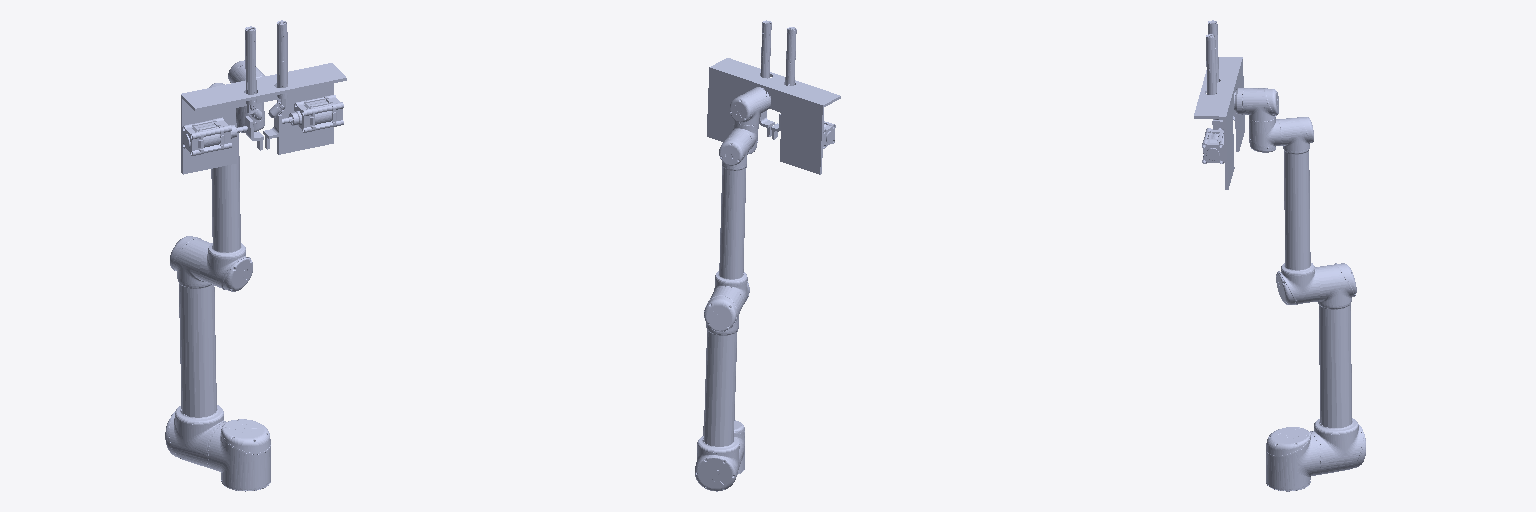
The robot description file, URDF, robot "finalassem":
<?xml version="1.0" encoding="utf-8" ?>
<!-- This URDF was automatically created by SolidWorks to URDF Exporter! Originally created by [author] ([email redacted]) 
     Commit Version: 1.6.0-4-g7f85cfe  Build Version: 1.6.7995.38578
     For more information, please see http://wiki.ros.org/sw_urdf_exporter -->
<robot name="finalassem">
    <link name="world" />
    <joint name="base_joint" type="fixed">
        <parent link="world" />
        <child link="base_link" />
        <origin rpy="0 0 0" xyz="0.0 0.0 0.0" />
    </joint>
    <link name="base_link">
        <inertial>
            <origin xyz="-0.0603419557207644 -1.50773058291787 0.821836226358468" rpy="0 0 0" />
            <mass value="142.882608819031" />
            <inertia ixx="10.8712200878076" ixy="0.535285446515449" ixz="0.000457817673471661" iyy="8.41409381527662" iyz="0.0144235053946301" izz="16.3298673878799" />
        </inertial>
        <visual>
            <origin xyz="0 0 0" rpy="0 0 0" />
            <geometry>
                <mesh filename="package://finalassem/meshes/base_link.STL" />
            </geometry>
            <material name="">
                <color rgba="0.792156862745098 0.819607843137255 0.933333333333333 1" />
            </material>
        </visual>
        <collision>
            <origin xyz="0 0 0" rpy="0 0 0" />
            <geometry>
                <mesh filename="package://finalassem/meshes/base_link.STL" />
            </geometry>
        </collision>
    </link>
    <link name="link_1">
        <inertial>
            <origin xyz="4.77127178797471E-06 0.0784763184510359 -0.0116151707889601" rpy="0 0 0" />
            <mass value="3.07355204108882" />
            <inertia ixx="0.0114771461524677" ixy="-9.89074980772093E-07" ixz="2.0481809447255E-07" iyy="0.010119747924353" iyz="0.000858548536440192" izz="0.0107166314018568" />
        </inertial>
        <visual>
            <origin xyz="0 0 0" rpy="0 0 0" />
            <geometry>
                <mesh filename="package://finalassem/meshes/link_1.STL" />
            </geometry>
            <material name="">
                <color rgba="0.792156862745098 0.819607843137255 0.933333333333333 1" />
            </material>
        </visual>
        <collision>
            <origin xyz="0 0 0" rpy="0 0 0" />
            <geometry>
                <mesh filename="package://finalassem/meshes/link_1.STL" />
            </geometry>
        </collision>
    </link>
    <joint name="joint_1" type="continuous">
        <origin xyz="0.00240745158135776 -0.104353839104099 0.15597596146156" rpy="1.5707963267949 0 0.397601106482726" />
        <parent link="base_link" />
        <child link="link_1" />
        <axis xyz="0 1 0" />
    </joint>
    <link name="link_2">
        <inertial>
            <origin xyz="-8.65631177508763E-06 0.0116145591653397 -0.138860145082013" rpy="0 0 0" />
            <mass value="3.07348047660414" />
            <inertia ixx="0.0114769295305807" ixy="7.31547530408359E-07" ixz="-7.71435860268772E-07" iyy="0.0107157342982714" iyz="0.000858669597321725" izz="0.0101190242871439" />
        </inertial>
        <visual>
            <origin xyz="0 0 0" rpy="0 0 0" />
            <geometry>
                <mesh filename="package://finalassem/meshes/link_2.STL" />
            </geometry>
            <material name="">
                <color rgba="0.792156862745098 0.819607843137255 0.933333333333333 1" />
            </material>
        </visual>
        <collision>
            <origin xyz="0 0 0" rpy="0 0 0" />
            <geometry>
                <mesh filename="package://finalassem/meshes/link_2.STL" />
            </geometry>
        </collision>
    </link>
    <joint name="joint_2" type="continuous">
        <origin xyz="0 0.0899999999999889 -0.0256155819164052" rpy="0 0 0.0307878661568272" />
        <parent link="link_1" />
        <child link="link_2" />
        <axis xyz="0 0 1" />
    </joint>
    <link name="link_3">
        <inertial>
            <origin xyz="-0.0013474856353204 0.29655345897388 0.00206792628843752" rpy="0 0 0" />
            <mass value="5.63896475563932" />
            <inertia ixx="0.0849775986807389" ixy="0.000146256734328598" ixz="0.000113417635250669" iyy="0.00920146977412278" iyz="-0.000226344276129794" izz="0.0848691111632557" />
        </inertial>
        <visual>
            <origin xyz="0 0 0" rpy="0 0 0" />
            <geometry>
                <mesh filename="package://finalassem/meshes/link_3.STL" />
            </geometry>
            <material name="">
                <color rgba="0.792156862745098 0.819607843137255 0.933333333333333 1" />
            </material>
        </visual>
        <collision>
            <origin xyz="0 0 0" rpy="0 0 0" />
            <geometry>
                <mesh filename="package://finalassem/meshes/link_3.STL" />
            </geometry>
        </collision>
    </link>
    <joint name="joint_3" type="continuous">
        <origin xyz="0 0.0849908562998217 -0.150384418083583" rpy="0 0.484546533228913 0" />
        <parent link="link_2" />
        <child link="link_3" />
        <axis xyz="0 1 0" />
    </joint>
    <link name="link_4">
        <inertial>
            <origin xyz="-9.96691760318802E-07 0.199930062003044 0.103893893019653" rpy="0 0 0" />
            <mass value="3.92494509067358" />
            <inertia ixx="0.0505976310623649" ixy="9.14310736021171E-07" ixz="3.55839284637942E-07" iyy="0.00492433782622353" iyz="-0.000221197443287801" izz="0.050539802474539" />
        </inertial>
        <visual>
            <origin xyz="0 0 0" rpy="0 0 0" />
            <geometry>
                <mesh filename="package://finalassem/meshes/link_4.STL" />
            </geometry>
            <material name="">
                <color rgba="0.792156862745098 0.819607843137255 0.933333333333333 1" />
            </material>
        </visual>
        <collision>
            <origin xyz="0 0 0" rpy="0 0 0" />
            <geometry>
                <mesh filename="package://finalassem/meshes/link_4.STL" />
            </geometry>
        </collision>
    </link>
    <joint name="joint_4" type="continuous">
        <origin xyz="-0.0118911304647787 0.527909143700178 0.0183817072517072" rpy="0.00309379475843327 -0.574185627833264 -0.00569596678779681" />
        <parent link="link_3" />
        <child link="link_4" />
        <axis xyz="0 0 1" />
    </joint>
    <link name="link_5">
        <inertial>
            <origin xyz="-5.39835825404122E-06 0.138062304139644 -0.00973804553946607" rpy="0 0 0" />
            <mass value="0.728489420155602" />
            <inertia ixx="0.00111505511483772" ixy="-2.2085432932022E-08" ixz="7.18321259874662E-08" iyy="0.00103091880968341" iyz="9.07975601526633E-05" izz="0.000883739881409994" />
        </inertial>
        <visual>
            <origin xyz="0 0 0" rpy="0 0 0" />
            <geometry>
                <mesh filename="package://finalassem/meshes/link_5.STL" />
            </geometry>
            <material name="">
                <color rgba="0.792156862745098 0.819607843137255 0.933333333333333 1" />
            </material>
        </visual>
        <collision>
            <origin xyz="0 0 0" rpy="0 0 0" />
            <geometry>
                <mesh filename="package://finalassem/meshes/link_5.STL" />
            </geometry>
        </collision>
    </link>
    <joint name="joint_5" type="continuous">
        <origin xyz="0 0.425934706109944 0.105916684653403" rpy="3.14159265358979 0.105419265942033 -3.14159265358979" />
        <parent link="link_4" />
        <child link="link_5" />
        <axis xyz="0 1 0" />
    </joint>
    <link name="link_6">
        <inertial>
            <origin xyz="2.64420075834354E-06 0.0097373554168092 -0.108097210619425" rpy="0 0 0" />
            <mass value="0.728502825635752" />
            <inertia ixx="0.00111504506807076" ixy="7.4786557307168E-08" ixz="-3.14867766803927E-08" iyy="0.000883753251501161" iyz="9.07976008466227E-05" izz="0.00103094195285295" />
        </inertial>
        <visual>
            <origin xyz="0 0 0" rpy="0 0 0" />
            <geometry>
                <mesh filename="package://finalassem/meshes/link_6.STL" />
            </geometry>
            <material name="">
                <color rgba="0.792156862745098 0.819607843137255 0.933333333333333 1" />
            </material>
        </visual>
        <collision>
            <origin xyz="0 0 0" rpy="0 0 0" />
            <geometry>
                <mesh filename="package://finalassem/meshes/link_6.STL" />
            </geometry>
        </collision>
    </link>
    <joint name="joint_6" type="continuous">
        <origin xyz="0 0.145665293890056 0" rpy="0 0 -0.0544254616509298" />
        <parent link="link_5" />
        <child link="link_6" />
        <axis xyz="0 0 1" />
    </joint>
    <link name="link_7">
        <inertial>
            <origin xyz="-3.57005926357457E-06 0.108096387755275 -0.00973741560067112" rpy="0 0 0" />
            <mass value="0.72850243818008" />
            <inertia ixx="0.00111505826448669" ixy="-3.33168592003055E-08" ixz="7.77483096066822E-08" iyy="0.00103092645898969" iyz="9.07971030654968E-05" izz="0.000883751182011464" />
        </inertial>
        <visual>
            <origin xyz="0 0 0" rpy="0 0 0" />
            <geometry>
                <mesh filename="package://finalassem/meshes/link_7.STL" />
            </geometry>
            <material name="">
                <color rgba="0.792156862745098 0.819607843137255 0.933333333333333 1" />
            </material>
        </visual>
        <collision>
            <origin xyz="0 0 0" rpy="0 0 0" />
            <geometry>
                <mesh filename="package://finalassem/meshes/link_7.STL" />
            </geometry>
        </collision>
    </link>
    <joint name="joint_7" type="continuous">
        <origin xyz="0 0 -0.115700000000001" rpy="0 -0.315525709253304 0" />
        <parent link="link_6" />
        <child link="link_7" />
        <axis xyz="0 1 0" />
    </joint>
    <link name="link_8">
        <inertial>
            <origin xyz="-0.0315513204285673 0.0260145697494081 -0.0340332644469926" rpy="0 0 0" />
            <mass value="3.07827959030171" />
            <inertia ixx="0.0245029423900137" ixy="-0.0120788803001195" ixz="0.00129006559738632" iyy="0.0310317103819994" iyz="-0.00170789460065063" izz="0.0518371197894893" />
        </inertial>
        <visual>
            <origin xyz="0 0 0" rpy="0 0 0" />
            <geometry>
                <mesh filename="package://finalassem/meshes/link_8.STL" />
            </geometry>
            <material name="">
                <color rgba="0.792156862745098 0.819607843137255 0.933333333333333 1" />
            </material>
        </visual>
        <collision>
            <origin xyz="0 0 0" rpy="0 0 0" />
            <geometry>
                <mesh filename="package://finalassem/meshes/link_8.STL" />
            </geometry>
        </collision>
    </link>
    <joint name="joint_8" type="continuous">
        <origin xyz="0 0.1157 -0.0912407987352135" rpy="0 0 2.5427792381943" />
        <parent link="link_7" />
        <child link="link_8" />
        <axis xyz="0 0 1" />
    </joint>
    <transmission name="link_1_trans">
        <type>transmission_interface/SimpleTransmission</type>
        <joint name="joint_1">
            <hardwareInterface>hardware_interface/PositionJointInterface</hardwareInterface>
        </joint>
        <actuator name="link_1_motor">
            <hardwareInterface>hardware_interface/PositionJointInterface</hardwareInterface>
            <mechanicalReduction>1</mechanicalReduction>
        </actuator>
    </transmission>
    <transmission name="link_2_trans">
        <type>transmission_interface/SimpleTransmission</type>
        <joint name="joint_2">
            <hardwareInterface>hardware_interface/PositionJointInterface</hardwareInterface>
        </joint>
        <actuator name="link_2_motor">
            <hardwareInterface>hardware_interface/PositionJointInterface</hardwareInterface>
            <mechanicalReduction>1</mechanicalReduction>
        </actuator>
    </transmission>
    <transmission name="link_3_trans">
        <type>transmission_interface/SimpleTransmission</type>
        <joint name="joint_3">
            <hardwareInterface>hardware_interface/PositionJointInterface</hardwareInterface>
        </joint>
        <actuator name="link_3_motor">
            <hardwareInterface>hardware_interface/PositionJointInterface</hardwareInterface>
            <mechanicalReduction>1</mechanicalReduction>
        </actuator>
    </transmission>
    <transmission name="link_4_trans">
        <type>transmission_interface/SimpleTransmission</type>
        <joint name="joint_4">
            <hardwareInterface>hardware_interface/PositionJointInterface</hardwareInterface>
        </joint>
        <actuator name="link_4_motor">
            <hardwareInterface>hardware_interface/PositionJointInterface</hardwareInterface>
            <mechanicalReduction>1</mechanicalReduction>
        </actuator>
    </transmission>
    <transmission name="link_5_trans">
        <type>transmission_interface/SimpleTransmission</type>
        <joint name="joint_5">
            <hardwareInterface>hardware_interface/PositionJointInterface</hardwareInterface>
        </joint>
        <actuator name="link_5_motor">
            <hardwareInterface>hardware_interface/PositionJointInterface</hardwareInterface>
            <mechanicalReduction>1</mechanicalReduction>
        </actuator>
    </transmission>
    <transmission name="link_6_trans">
        <type>transmission_interface/SimpleTransmission</type>
        <joint name="joint_6">
            <hardwareInterface>hardware_interface/PositionJointInterface</hardwareInterface>
        </joint>
        <actuator name="link_6_motor">
            <hardwareInterface>hardware_interface/PositionJointInterface</hardwareInterface>
            <mechanicalReduction>1</mechanicalReduction>
        </actuator>
    </transmission>
    <transmission name="link_7_trans">
        <type>transmission_interface/SimpleTransmission</type>
        <joint name="joint_7">
            <hardwareInterface>hardware_interface/PositionJointInterface</hardwareInterface>
        </joint>
        <actuator name="link_7_motor">
            <hardwareInterface>hardware_interface/PositionJointInterface</hardwareInterface>
            <mechanicalReduction>1</mechanicalReduction>
        </actuator>
    </transmission>
    <transmission name="link_8_trans">
        <type>transmission_interface/SimpleTransmission</type>
        <joint name="joint_8">
            <hardwareInterface>hardware_interface/PositionJointInterface</hardwareInterface>
        </joint>
        <actuator name="link_8_motor">
            <hardwareInterface>hardware_interface/PositionJointInterface</hardwareInterface>
            <mechanicalReduction>1</mechanicalReduction>
        </actuator>
    </transmission>
    <gazebo>
        <plugin name="control" filename="libgazebo_ros_control.so">
            <robotNamespace>/</robotNamespace>
        </plugin>
        <plugin name="gazebo_ros_control">
            <robotNamespace>/</robotNamespace>
        </plugin>
    </gazebo>
    <gazebo reference="link_1">
        <selfCollide>true</selfCollide>
    </gazebo>
    <gazebo reference="link_2">
        <selfCollide>true</selfCollide>
    </gazebo>
    <gazebo reference="link_3">
        <selfCollide>true</selfCollide>
    </gazebo>
    <gazebo reference="link_4">
        <selfCollide>true</selfCollide>
    </gazebo>
    <gazebo reference="link_5">
        <selfCollide>true</selfCollide>
    </gazebo>
    <gazebo reference="link_6">
        <selfCollide>true</selfCollide>
    </gazebo>
    <gazebo reference="link_7">
        <selfCollide>true</selfCollide>
    </gazebo>
    <gazebo reference="link_8">
        <selfCollide>true</selfCollide>
    </gazebo>
</robot>

--- Render facts (derived) ---
3 views of the same robot in one strip: view 1: azimuth 30°, elevation 25°; view 2: azimuth 150°, elevation 25°; view 3: azimuth 270°, elevation 25° (orthographic).
Model finalassem with 10 links and 9 joints (8 continuous, 1 fixed), rooted at world, posed every joint at zero.
Visible links, largest first — view 1: link_8, link_3, link_4, link_1, link_2; view 2: link_8, link_3, link_4, link_2, link_7, link_5; view 3: link_3, link_8, link_4, link_1, link_2, link_7, link_5, link_6.
Boxes of the visible links, <box> form: link_8: <box>181,20,346,174</box>; link_3: <box>170,236,223,424</box>; link_4: <box>200,133,252,291</box>; link_1: <box>209,419,270,491</box>; link_2: <box>165,412,226,469</box>; link_8: <box>707,20,840,174</box>; link_3: <box>697,286,742,452</box>; link_4: <box>714,164,749,304</box>; link_2: <box>695,443,741,491</box>; link_7: <box>730,89,767,124</box>; link_5: <box>719,130,751,167</box>; link_3: <box>1314,263,1358,434</box>; link_8: <box>1194,20,1244,189</box>; link_4: <box>1276,147,1319,304</box>; link_1: <box>1266,427,1319,491</box>; link_2: <box>1310,424,1365,474</box>; link_7: <box>1242,88,1278,121</box>; link_5: <box>1278,117,1313,150</box>; link_6: <box>1249,117,1280,152</box>.
Bounding box of the posed robot: 0.5157 × 0.58 × 1.64 m (x, y, z).
Meshes: 9 distinct files referenced, 8 mesh visuals loaded (8 binary STL); not drawn: 1 (reference not matched to a file when rendering).